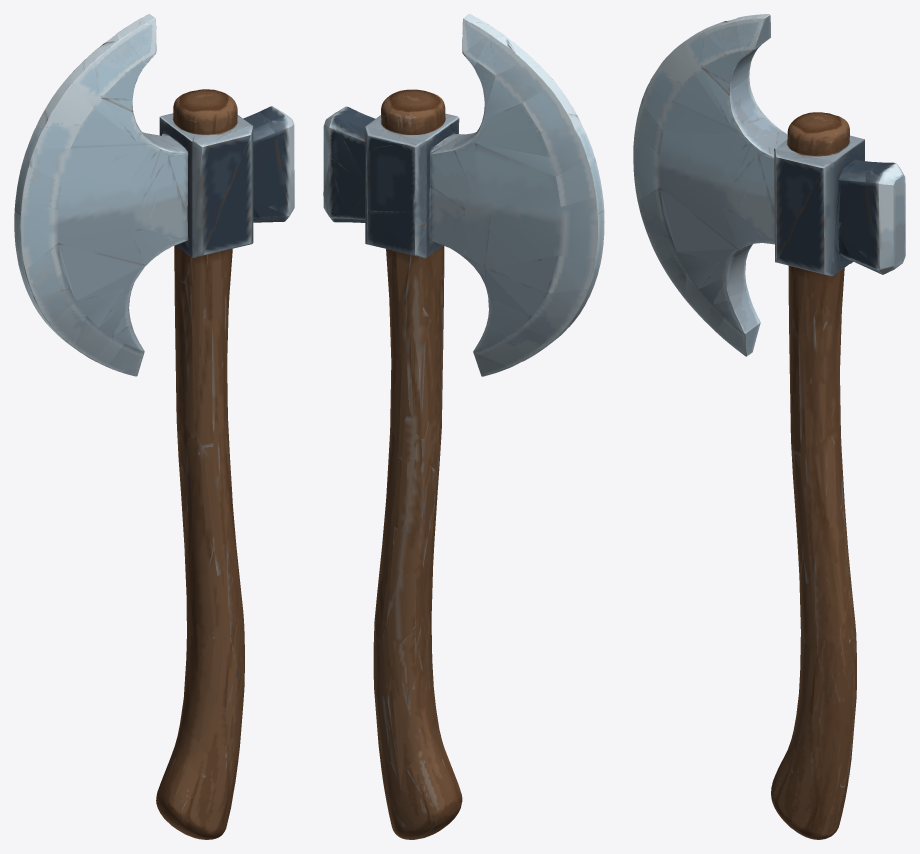
Rendered from axe.glb.
The picture shows the model from 3 angles, left to right: view 1: azimuth 30°, elevation 25°; view 2: azimuth 150°, elevation 25°; view 3: azimuth 330°, elevation 25°; orthographic projection. The views are drawn at different scales.
Bounding box in the file's own units: 0.6483 × 1.9 × 0.1699.
1 material, 1 textured.
